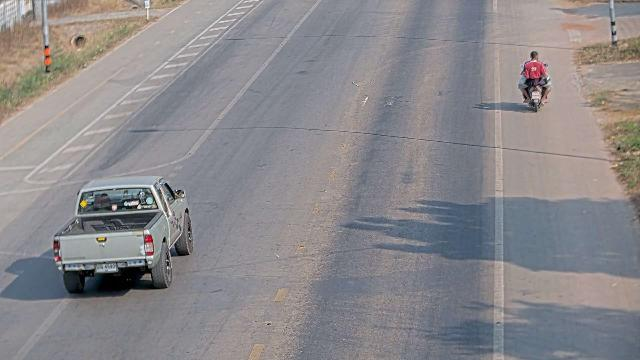motorcycle: (517, 59, 550, 112)
pickup-truck: (52, 174, 194, 294)
